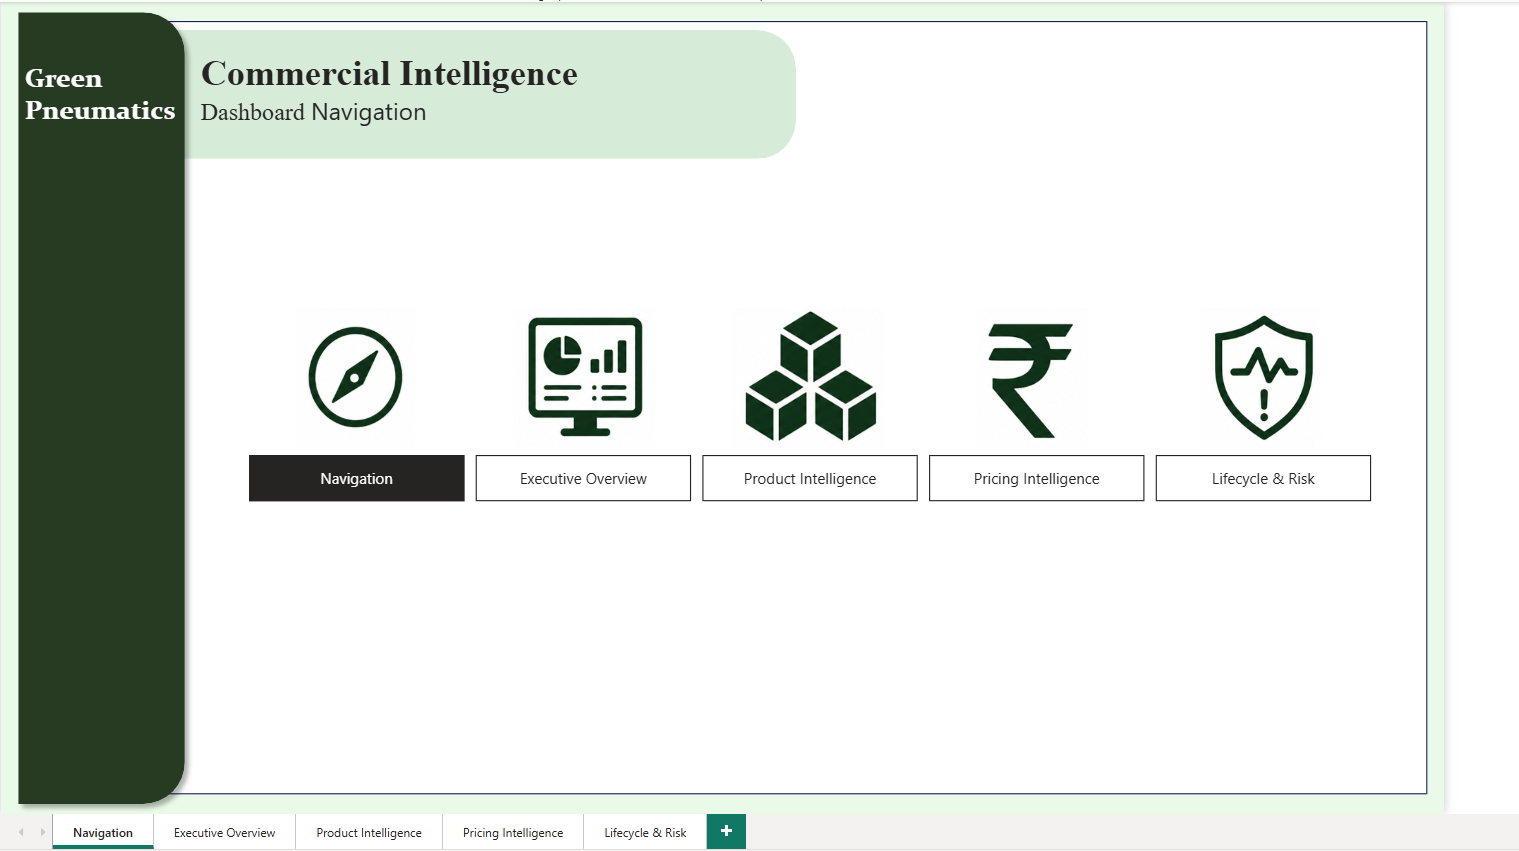

Layout of this report page (visuals, bound fields, positions):
{"tool":"powerbi","page":{"name":"Navigation","canvas":[1280,720],"ordinal":0},"visuals":[{"type":"shape","box":[16.5,16.5,1247.9,685.7],"z":0},{"type":"shape","box":[29.3,24.8,675.7,114.4],"z":1000},{"type":"shape","box":[6.6,0,165.8,720.1],"z":2000},{"type":"textbox","box":[16.1,47.4,156.3,71.1],"z":3000},{"type":"textbox","box":[172,39.9,548,116.2],"z":4000},{"type":"pageNavigator","box":[219.8,401.7,999.6,41.7],"z":5000},{"type":"image","box":[1038.3,271.3,156.1,124.1],"z":5001},{"type":"image","box":[836.2,271.3,157.8,124.1],"z":5002},{"type":"image","box":[635.8,271.3,160.5,124.1],"z":5003},{"type":"image","box":[431.8,271.3,171.1,124.1],"z":5004},{"type":"image","box":[232.3,271.3,164,124.1],"z":5005}]}

Visuals, with their boxes on the page's 1280x720 design canvas (x1, y1, x2, y2). These are canvas units, not pixel positions in the 1519x851 screenshot, which may show the page scaled, cropped or inside an application window:
shape: l=16, t=16, r=1264, b=702
shape: l=29, t=25, r=705, b=139
shape: l=7, t=0, r=172, b=720
textbox: l=16, t=47, r=172, b=118
textbox: l=172, t=40, r=720, b=156
pageNavigator: l=220, t=402, r=1219, b=443
image: l=1038, t=271, r=1194, b=395
image: l=836, t=271, r=994, b=395
image: l=636, t=271, r=796, b=395
image: l=432, t=271, r=603, b=395
image: l=232, t=271, r=396, b=395
